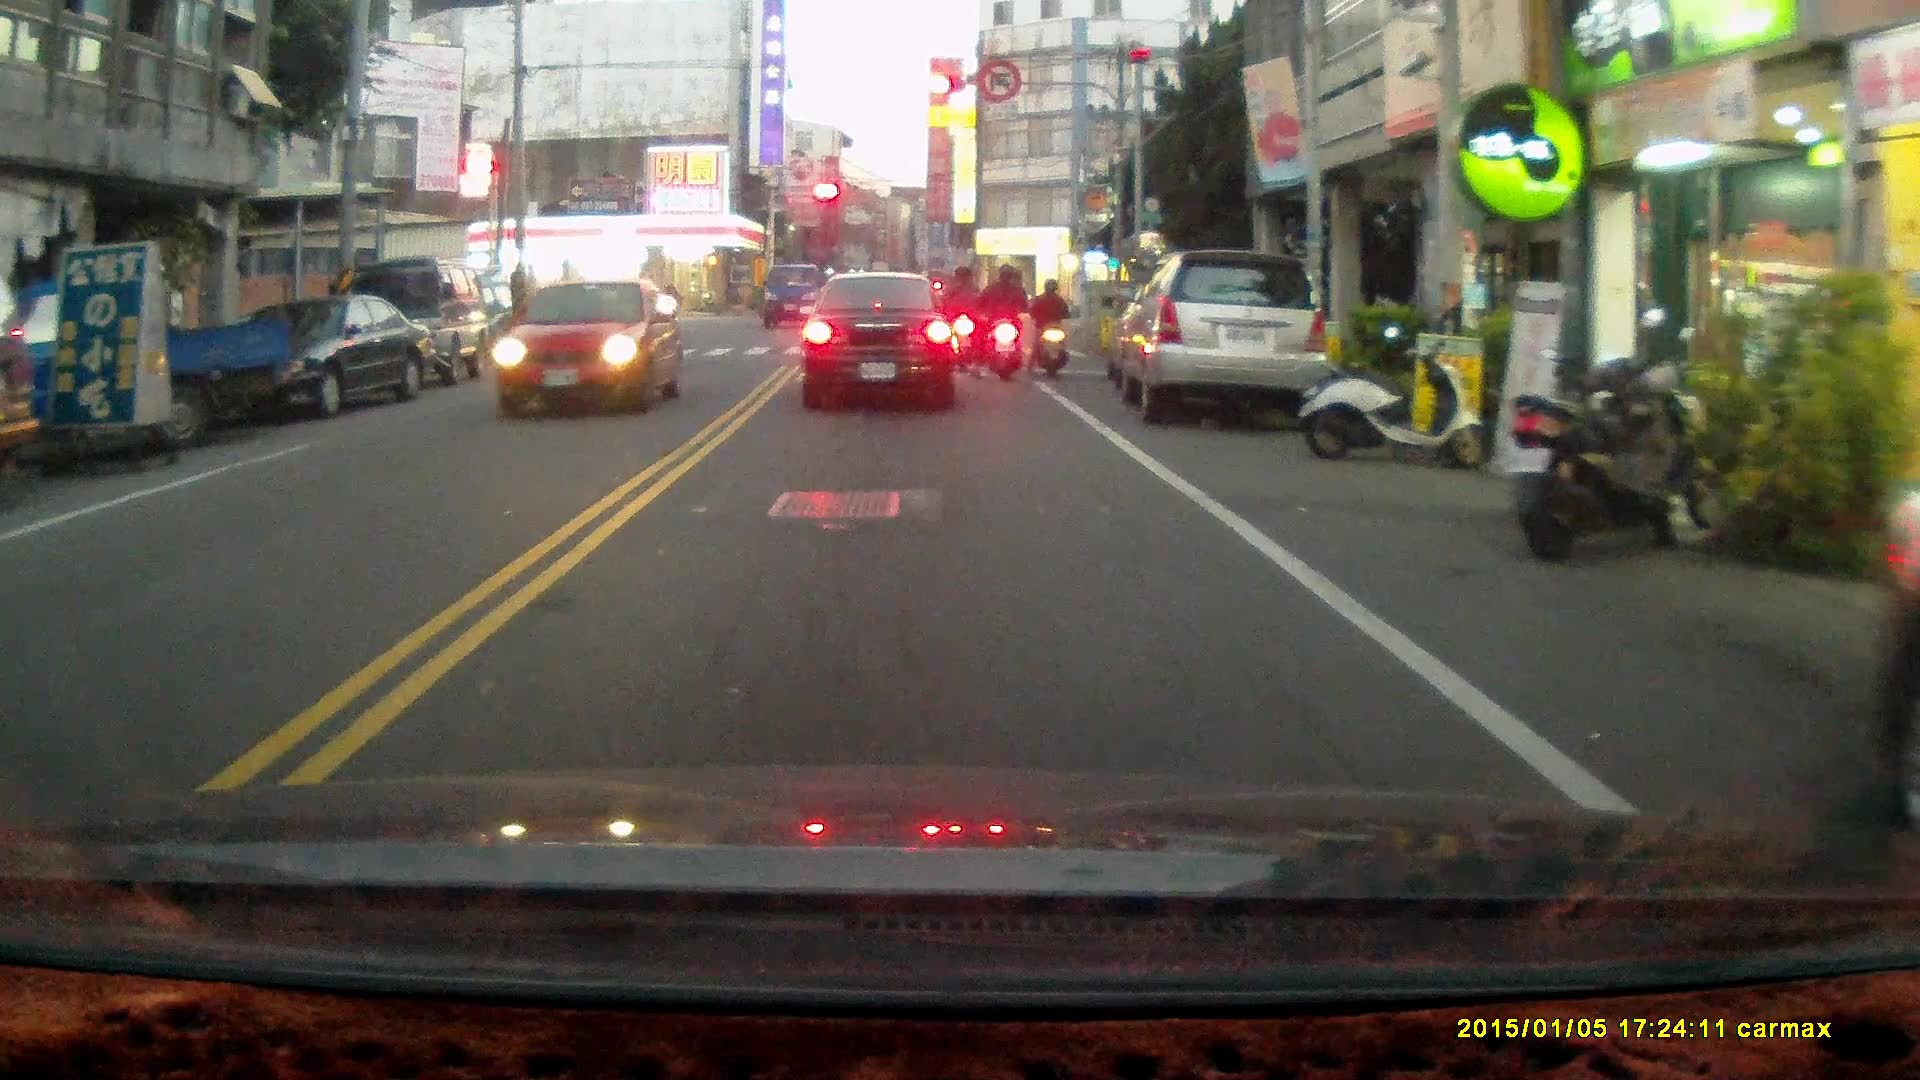rider: (971, 264, 1027, 386), (1025, 277, 1070, 383), (936, 266, 977, 375)
vehicle: (1112, 250, 1336, 434), (193, 293, 430, 418), (485, 276, 682, 418), (799, 270, 955, 415), (332, 254, 490, 394)
